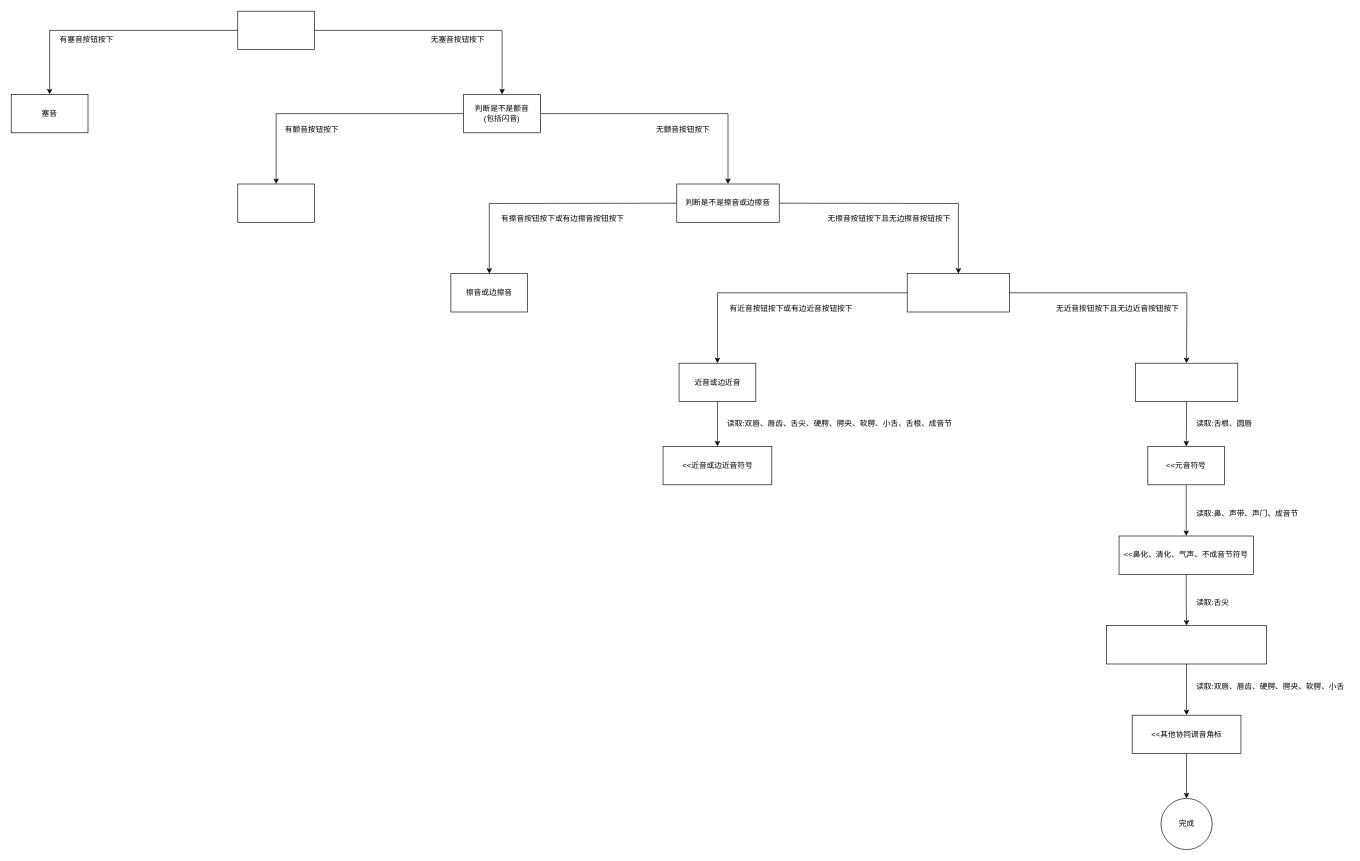
Some shapes in this 1360 by 861 pixel diagram are drawn without their labels. The centre of each missing label's shape, as x and y in pixels:
<<儿化符号或其他舌尖协同调音符号: point (1186, 644)
元音: point (1186, 382)
判断是不是塞音: point (276, 30)
判断是不是近音或边近音: point (958, 292)
颤音: point (276, 202)
